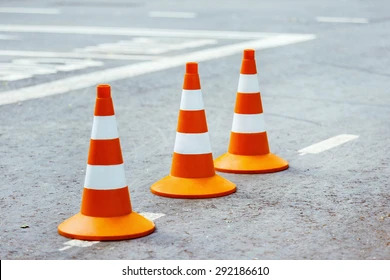cones: (59, 82, 157, 238), (153, 60, 231, 202), (222, 46, 287, 175)
